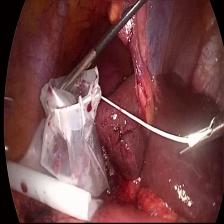Grasper: (179, 106, 223, 160), (56, 48, 95, 99)
Specimen Bag: (2, 80, 113, 221)
